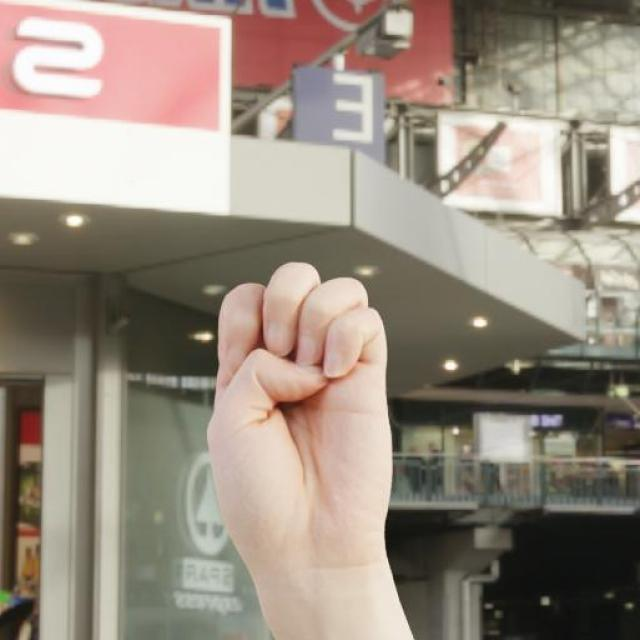E: (203, 257, 393, 582)
